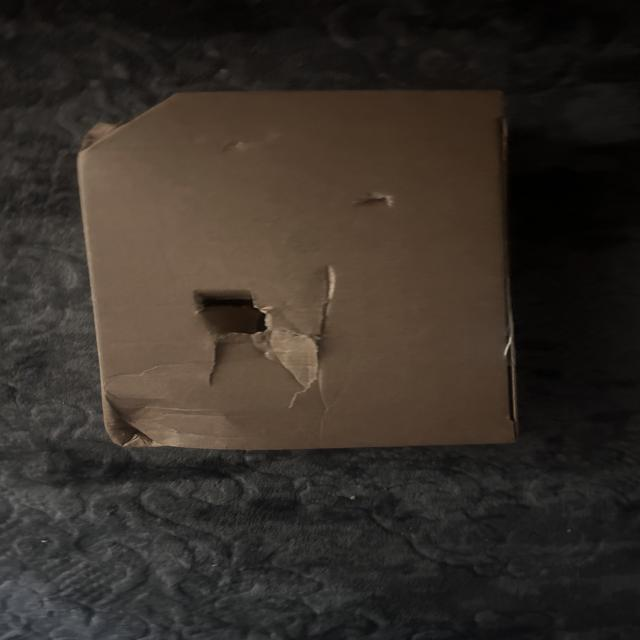damaged: (73, 84, 537, 462), (178, 267, 337, 395), (90, 384, 225, 458), (65, 80, 180, 158), (347, 178, 413, 221)
